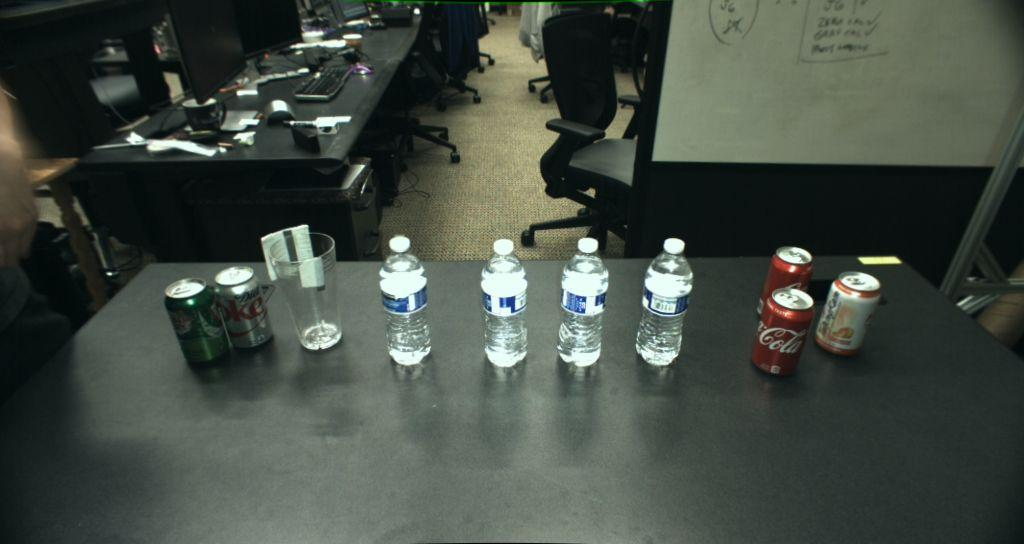can_coke: (752, 288, 814, 377)
can_diet_coke: (212, 265, 273, 350)
can_ginger_ale: (164, 278, 231, 364)
can_talking_rain_peach_nectarine: (816, 272, 881, 355)
water_bottle: (636, 237, 693, 366), (379, 236, 431, 365), (557, 238, 608, 366), (481, 239, 528, 367)
